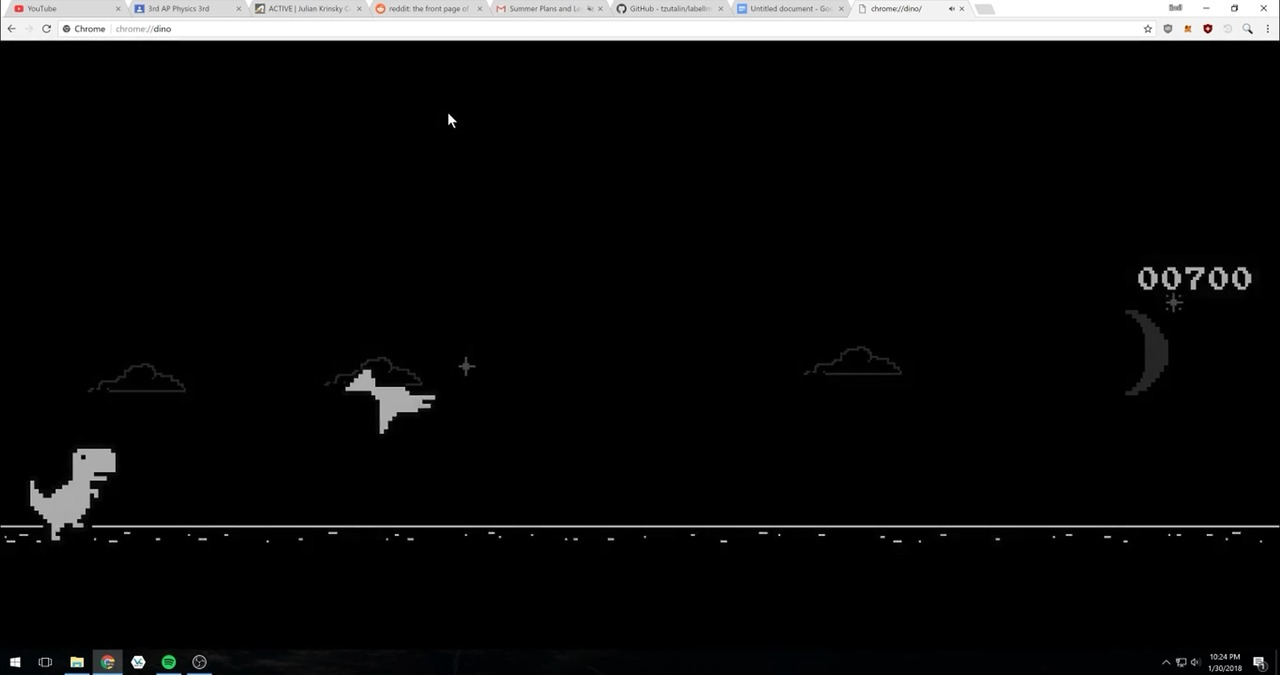bird: (345, 366, 438, 436)
dinosaur: (25, 445, 122, 544)
